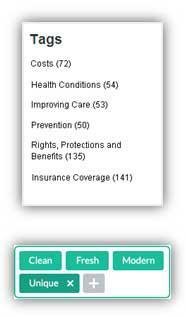button: (20, 274, 79, 293), (115, 252, 164, 271), (20, 251, 62, 270), (67, 252, 108, 271)
icon: (87, 276, 104, 292)
label: (30, 31, 66, 50)
